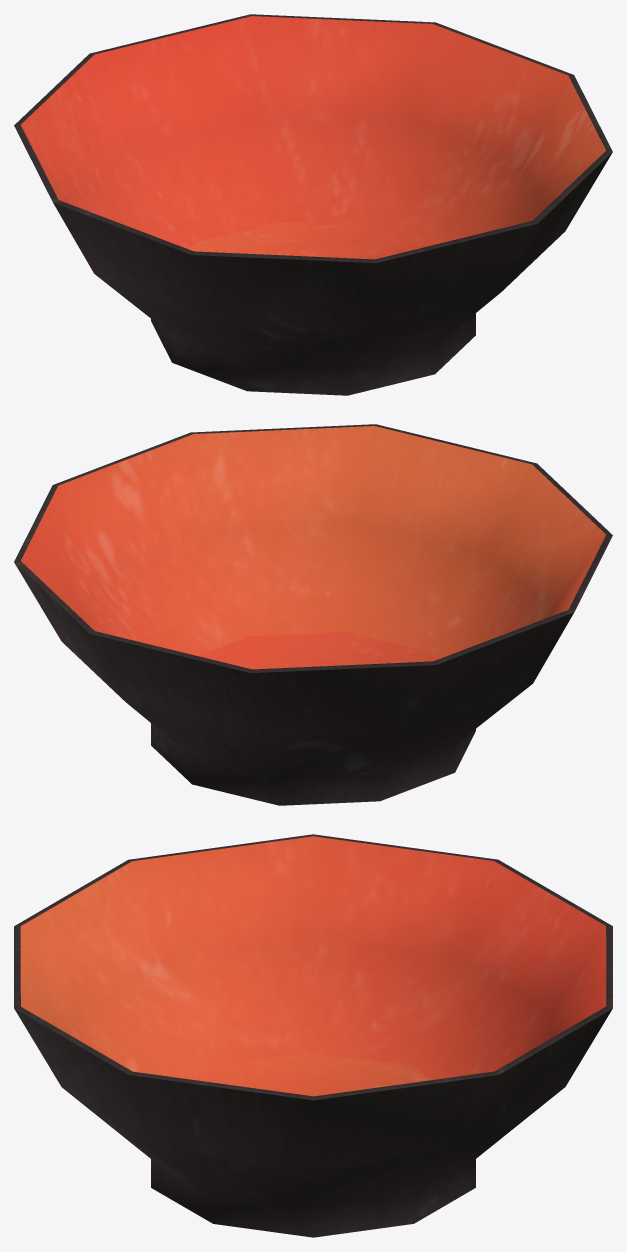
Rendered from dish03c.fbx.
The picture shows the model from 3 angles, top to bottom: view 1: azimuth 30°, elevation 25°; view 2: azimuth 150°, elevation 25°; view 3: azimuth 270°, elevation 25°; orthographic projection. The views are drawn at different scales.
Visible parts, largest first — view 1: dish03c; view 2: dish03c; view 3: dish03c.
Part boxes in pixels (x1=…): dish03c: x1=14, y1=14, x2=612, y2=395; dish03c: x1=14, y1=424, x2=612, y2=805; dish03c: x1=14, y1=834, x2=612, y2=1237.
Bounding box in the file's own units: 15.49 × 5.4 × 14.73.
